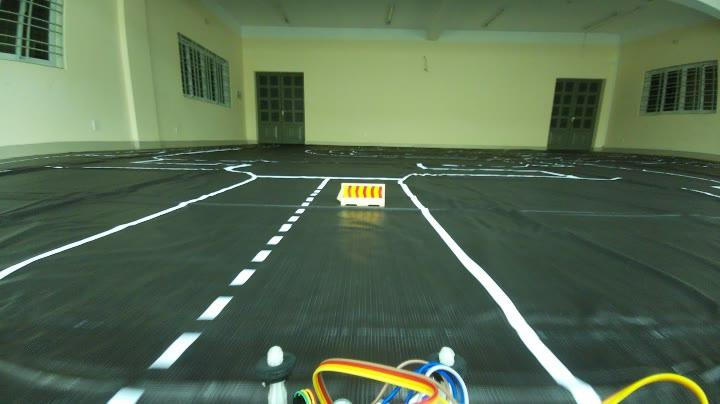roadblock: (331, 176, 393, 222)
